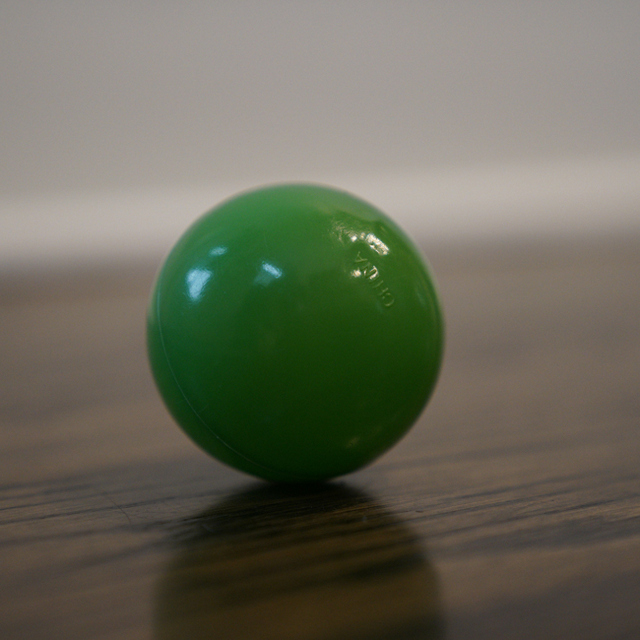Ball: (145, 183, 443, 485)
